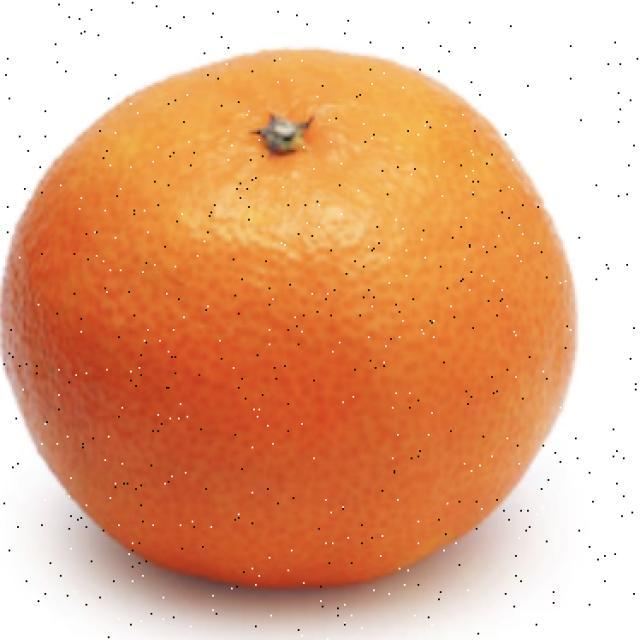Orange: (1, 46, 578, 590)
